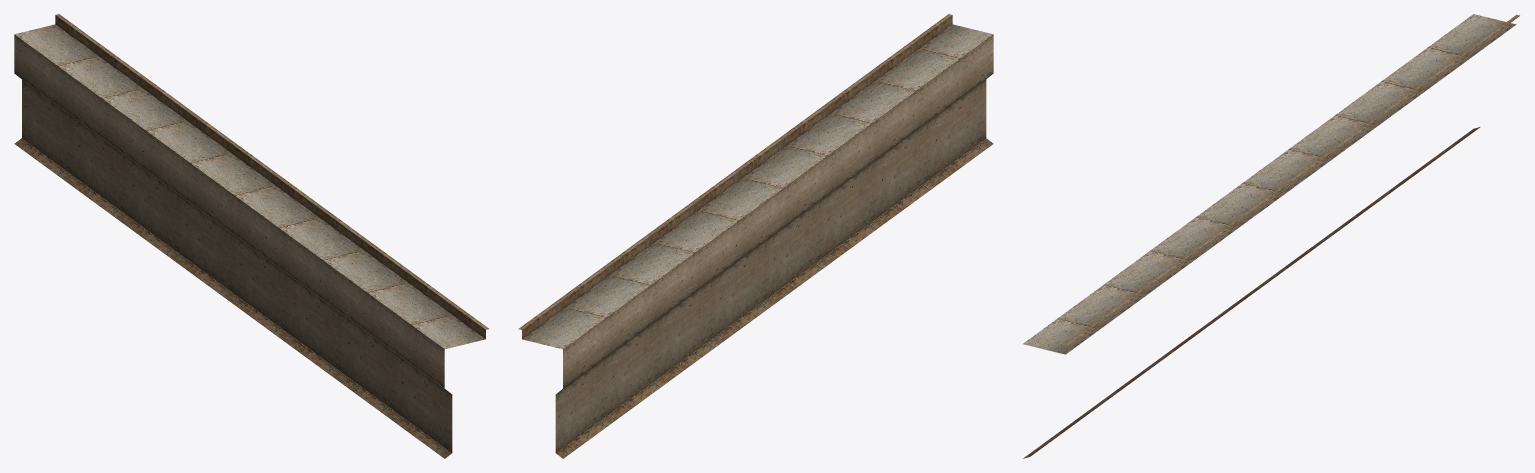
The model's file is M11_CompWallInner_B.glb.
3 views of the same model, side by side, from view 1: azimuth 30°, elevation 25°; view 2: azimuth 150°, elevation 25°; view 3: azimuth 330°, elevation 25° (orthographic). The views are drawn at different scales.
Visible parts, largest first — view 1: M11_COMPWALLINNER_B; view 2: M11_COMPWALLINNER_B; view 3: M11_COMPWALLINNER_B.
Part boxes in pixels (<box>): M11_COMPWALLINNER_B: <box>14,14,488,458</box>; M11_COMPWALLINNER_B: <box>518,14,993,458</box>; M11_COMPWALLINNER_B: <box>1023,14,1519,458</box>.
Size of the model in its own units: 3 by 7.6 by 49.88.
Materials: 3 (3 with a texture image).
